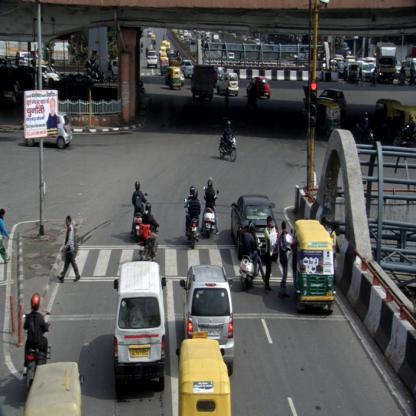car: (113, 262, 166, 399), (180, 264, 235, 378), (230, 196, 278, 262), (246, 76, 271, 100), (216, 73, 240, 97), (358, 60, 371, 83), (180, 60, 194, 79), (146, 51, 157, 69)
motorcycle: (23, 293, 51, 390), (238, 223, 263, 291), (130, 181, 149, 241), (200, 179, 219, 239), (184, 185, 200, 249), (217, 121, 239, 163)
truck: (376, 41, 396, 83), (191, 67, 214, 100)
